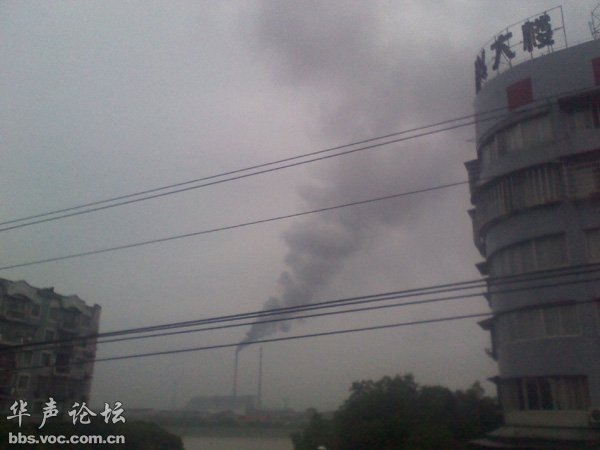dust: (229, 220, 359, 359)
